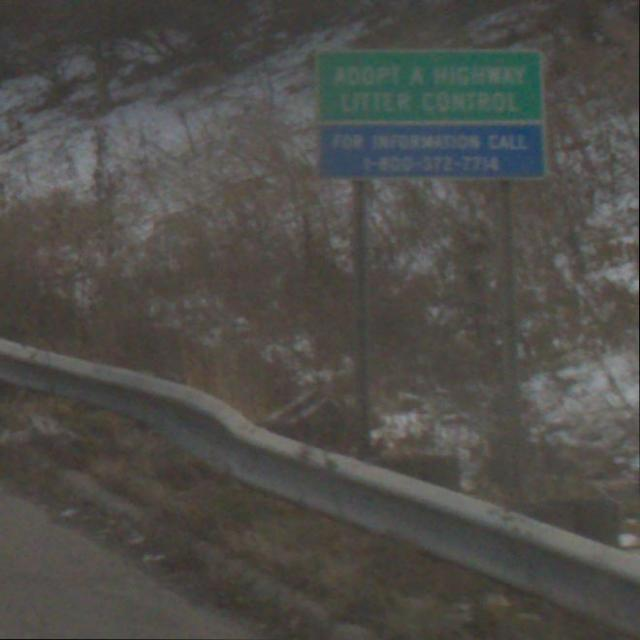Guard rail: (2, 330, 640, 640)
